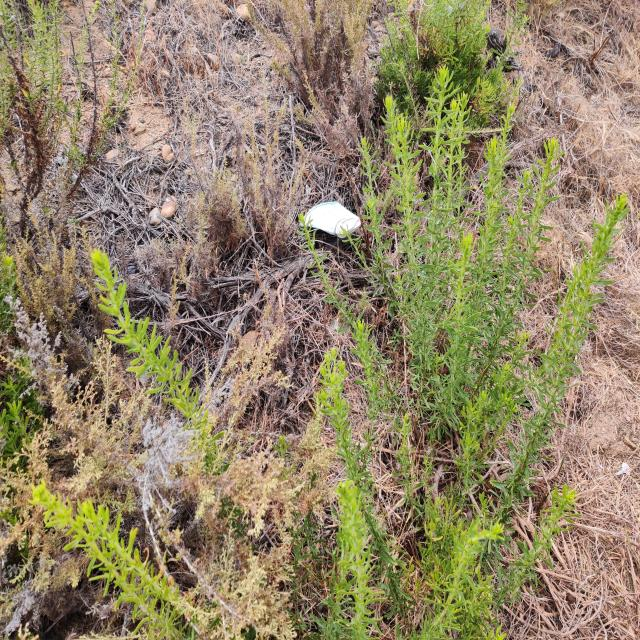litter: (292, 185, 375, 249)
